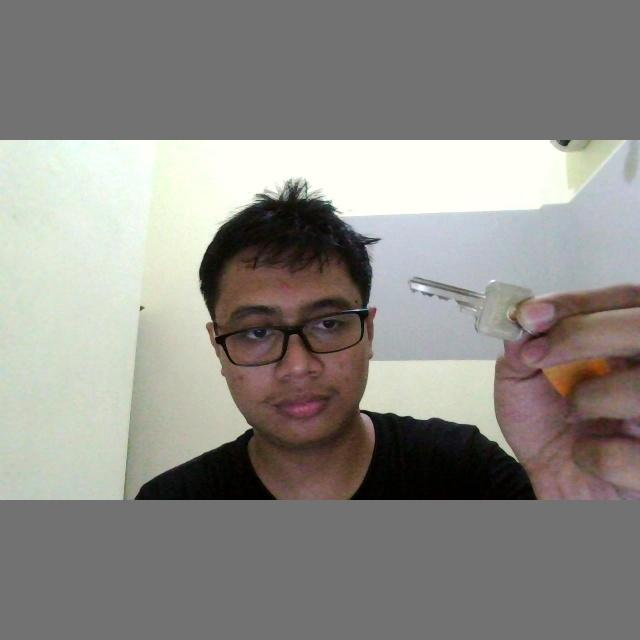Keys: (404, 268, 540, 344)
